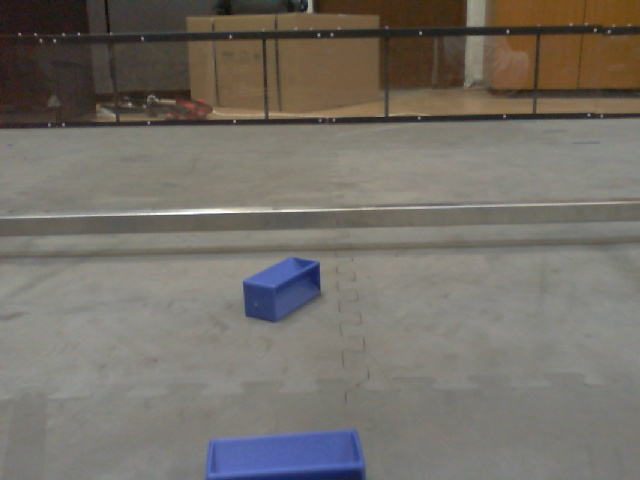BlueSample: (197, 424, 372, 479), (238, 254, 323, 320)
